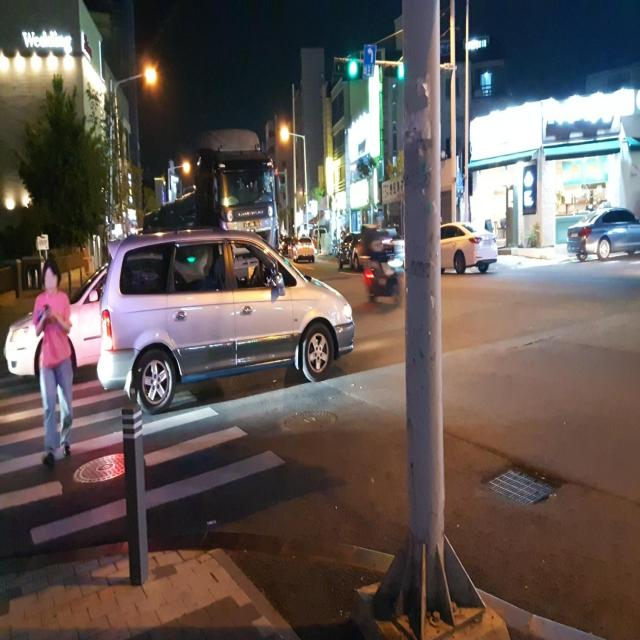횡단보도: (0, 367, 287, 548)
